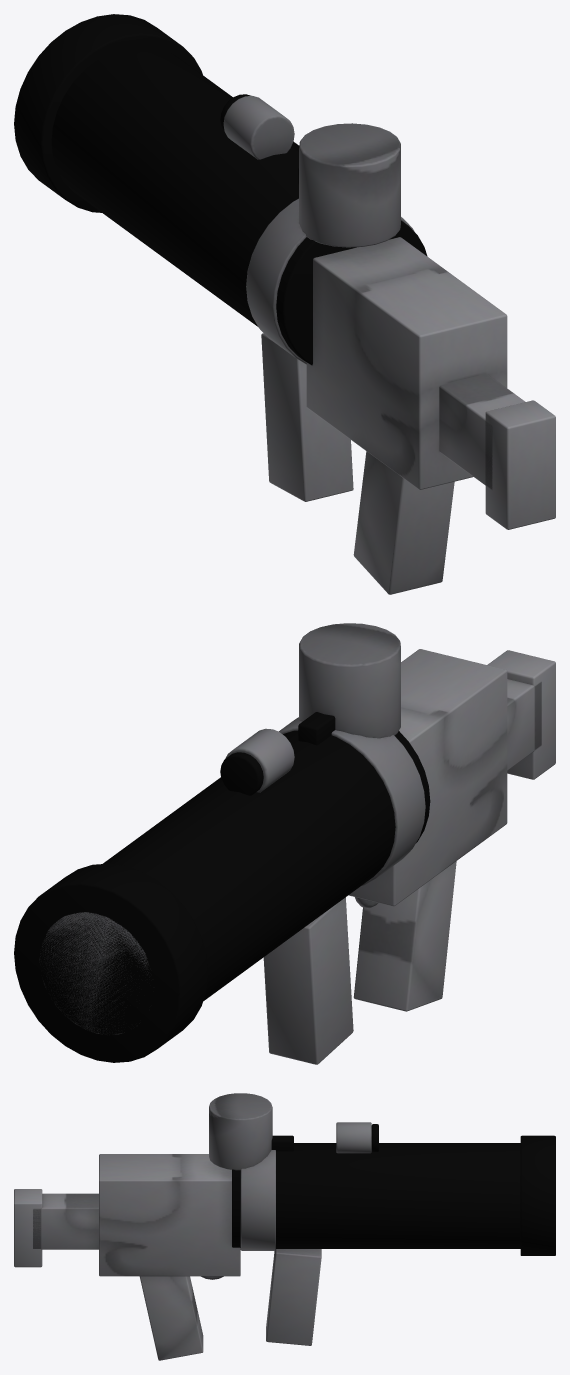
The model's file is cannon.glb.
The picture shows the model from 3 angles, top to bottom: view 1: azimuth 30°, elevation 25°; view 2: azimuth 150°, elevation 25°; view 3: azimuth 270°, elevation 25°; orthographic projection. The views are drawn at different scales.
Visible parts, largest first — view 1: cannon; view 2: cannon; view 3: cannon.
Part boxes in pixels (x1,y1,x2,y2): cannon: (14, 14, 555, 594); cannon: (14, 623, 555, 1064); cannon: (14, 1093, 555, 1360).
Bounding box in the file's own units: 0.34 × 0.769 × 1.53.
Materials: 5 (5 with a texture image).
